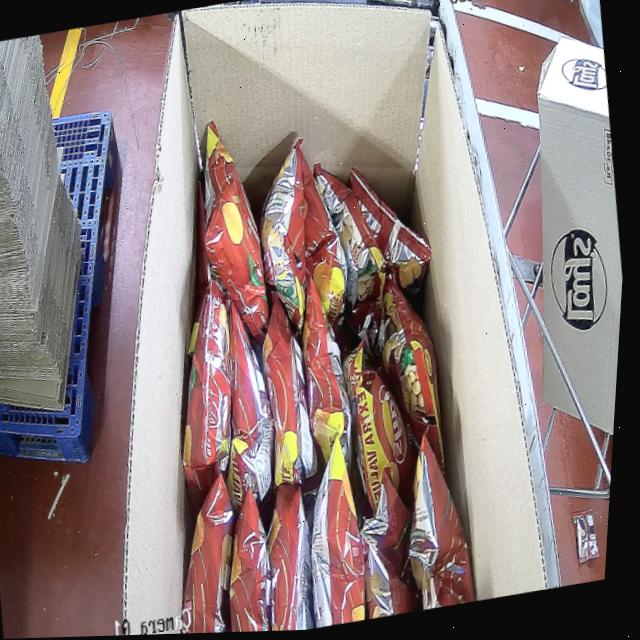MASALA: (111, 82, 506, 636)
